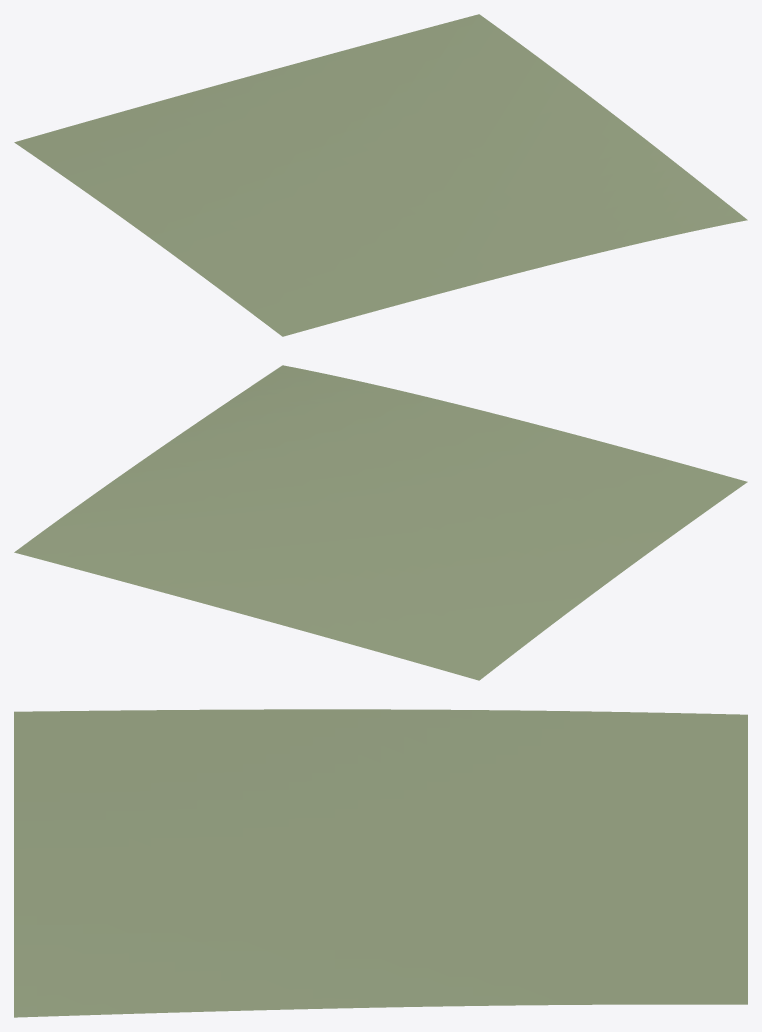
File: expanse-3-28.glb
The picture shows the model from 3 angles, top to bottom: view 1: azimuth 30°, elevation 25°; view 2: azimuth 150°, elevation 25°; view 3: azimuth 270°, elevation 25°; orthographic projection. The views are drawn at different scales.
Parts seen in each view (by area): view 1: expanse-3-28; view 2: expanse-3-28; view 3: expanse-3-28.
Part boxes in pixels (x1,y1,x2,y2): expanse-3-28: (14,14,747,336); expanse-3-28: (14,365,747,680); expanse-3-28: (14,709,747,1017).
Size of the model in its own units: 256 by 7.82 by 256.
